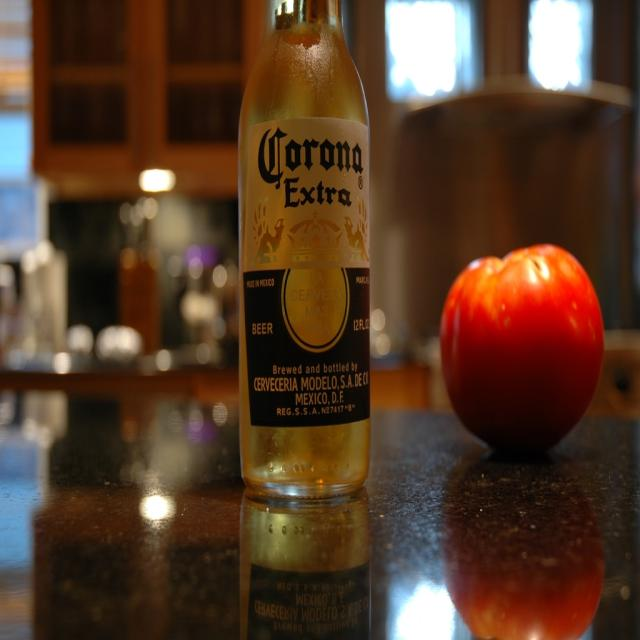corona: (244, 119, 372, 429)
